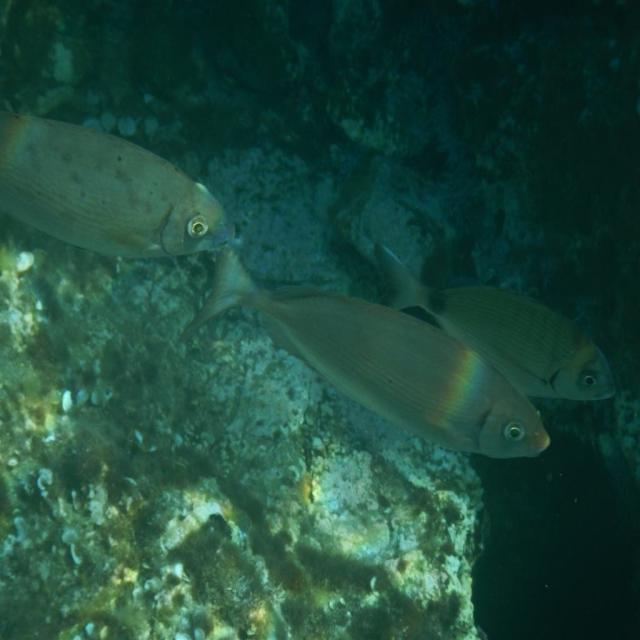Sokar Baligi: (212, 234, 559, 482)
